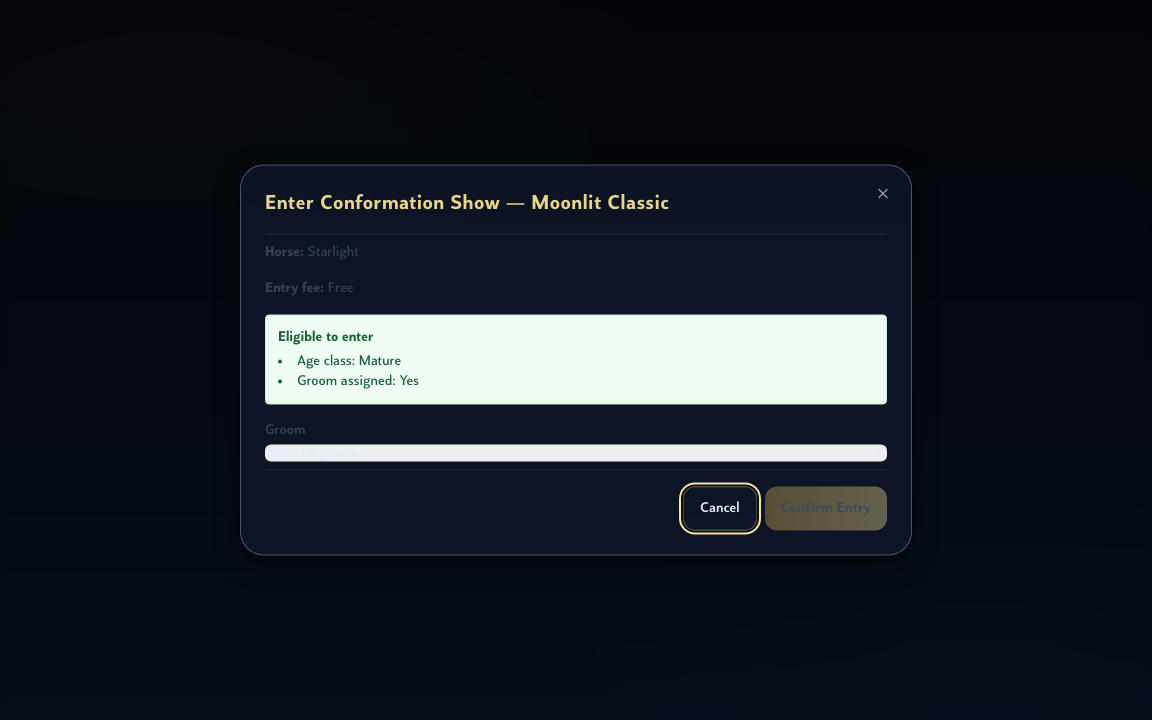
Test: ConformationEntryModal — failed entry (Equoria-mr1kq) › shows mapped copy for a refusal
Select "Mara Quill (Unrated · Gentle)" in the dropdown with test id "conformation-groom-select" at (576, 453), box [265,444,887,462]
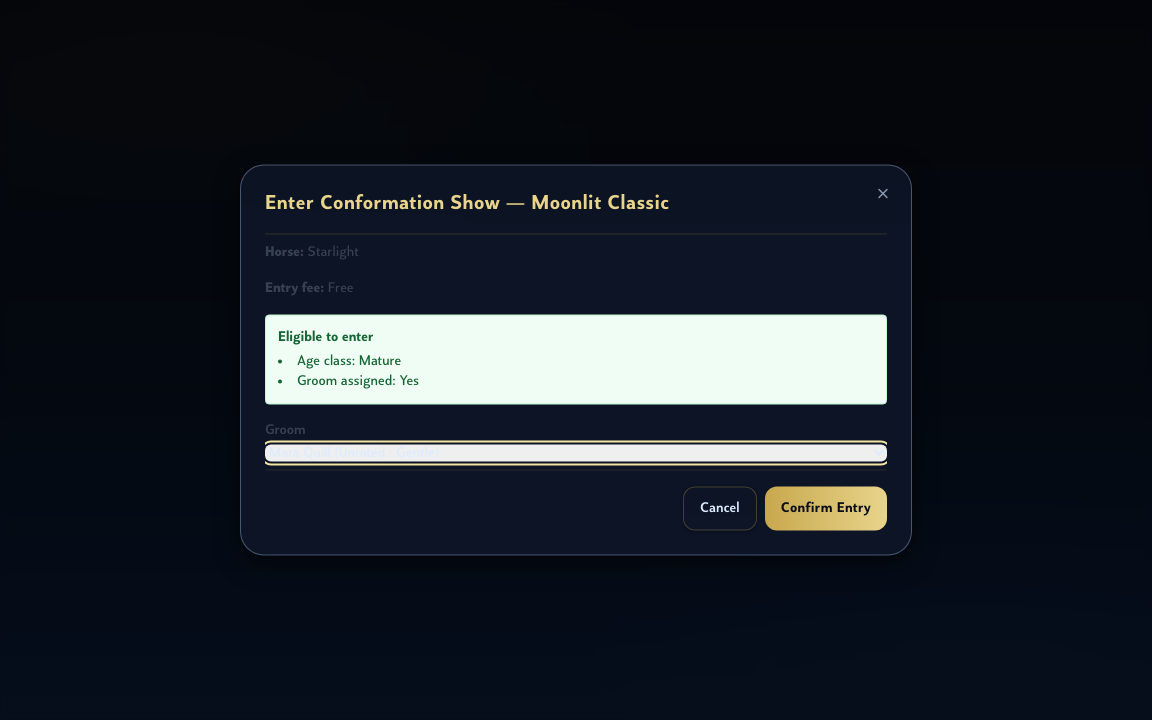
Click the button with test id "conformation-entry-submit" at (826, 508), box [765,486,887,530]
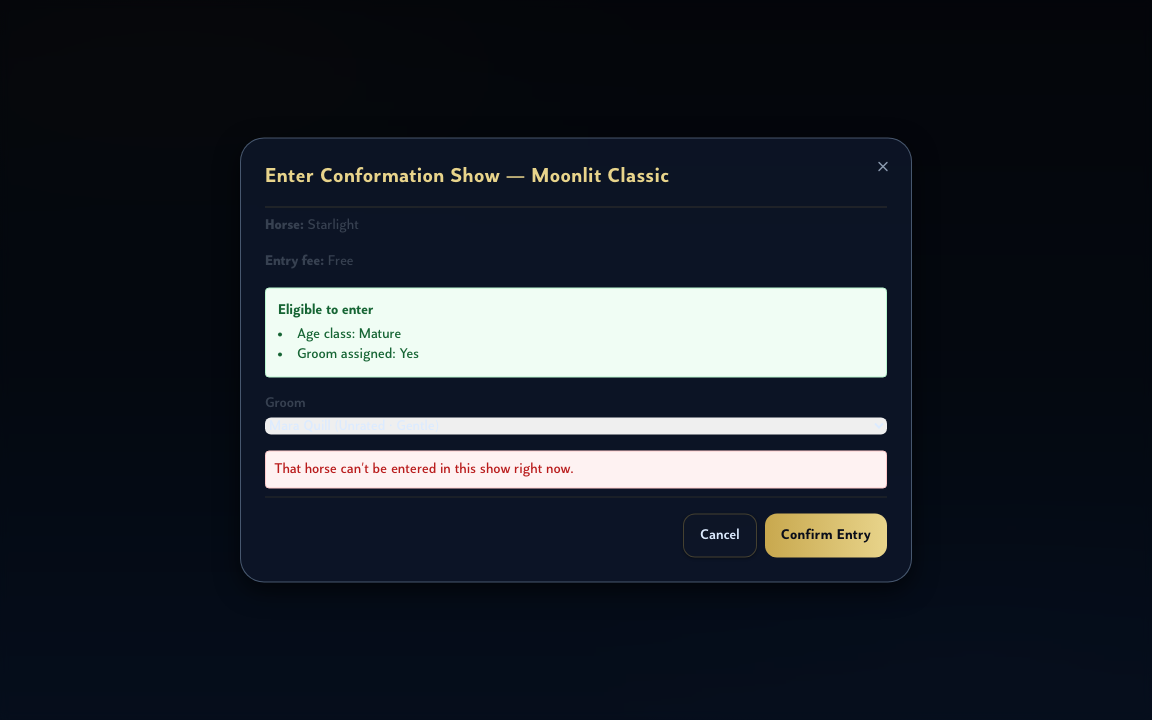
Expected: the text "That horse can't be entered in this show right now." is shown, [265,450,887,488]
